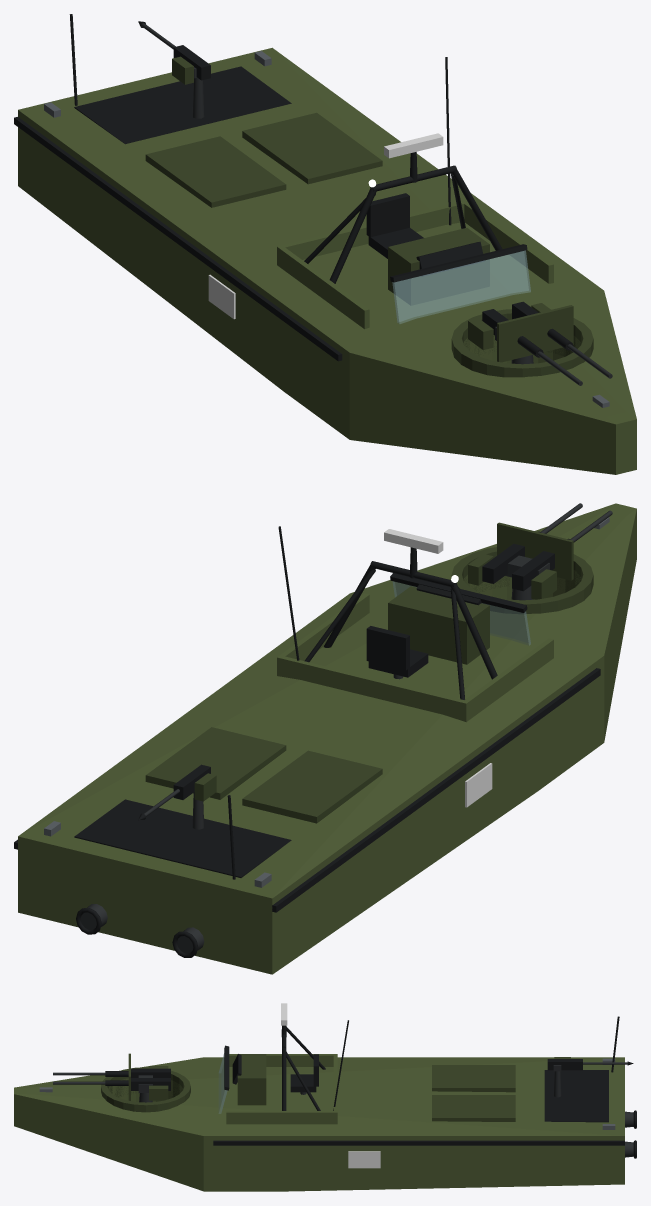
The model's file is pbr.glb.
3 views of the same model, one above another, from view 1: azimuth 30°, elevation 25°; view 2: azimuth 150°, elevation 25°; view 3: azimuth 270°, elevation 25° (orthographic). The views are drawn at different scales.
Parts seen in each view (by area): view 1: Mesh_Hull, Mesh_DeckPanelAft, Mesh_EngineHatchR, Mesh_EngineHatchL, Mesh_Windshield, Mesh_Console, Mesh_RubRailR, Mesh_TubCoaming, Mesh_GunShield, Mesh_CoamingAft, Mesh_CoamingR, Mesh_CoamingL (+9 smaller); view 2: Mesh_Hull, Mesh_DeckPanelAft, Mesh_EngineHatchR, Mesh_Console, Mesh_EngineHatchL, Mesh_CoamingAft, Mesh_RubRailR, Mesh_TubCoaming, Mesh_GunShield, Mesh_CoamingR, Mesh_SeatBack, Mesh_Windshield (+8 smaller); view 3: Mesh_Hull, Mesh_DeckPanelAft, Mesh_RubRailL, Mesh_EngineHatchR, Mesh_EngineHatchL, Mesh_TubCoaming, Mesh_CoamingL, Mesh_Console, Mesh_CoamingR, Mesh_HullMarkL, Mesh_SeatBase, Mesh_SternReceiver (+6 smaller).
Part boxes in pixels (bbox=[...]): Mesh_Hull: bbox=[18, 47, 636, 474]; Mesh_DeckPanelAft: bbox=[74, 66, 291, 144]; Mesh_EngineHatchR: bbox=[145, 136, 286, 207]; Mesh_EngineHatchL: bbox=[242, 112, 382, 184]; Mesh_Windshield: bbox=[392, 250, 530, 323]; Mesh_Console: bbox=[388, 228, 489, 305]; Mesh_RubRailR: bbox=[14, 117, 342, 361]; Mesh_TubCoaming: bbox=[451, 309, 593, 377]; Mesh_GunShield: bbox=[497, 305, 573, 362]; Mesh_CoamingAft: bbox=[277, 200, 468, 266]; Mesh_CoamingR: bbox=[280, 246, 369, 329]; Mesh_CoamingL: bbox=[464, 201, 553, 283]; Mesh_Hull: bbox=[18, 503, 636, 974]; Mesh_DeckPanelAft: bbox=[74, 799, 291, 877]; Mesh_EngineHatchR: bbox=[242, 750, 382, 823]; Mesh_Console: bbox=[388, 586, 489, 664]; Mesh_EngineHatchL: bbox=[145, 727, 286, 799]; Mesh_CoamingAft: bbox=[277, 655, 469, 722]; Mesh_RubRailR: bbox=[272, 668, 600, 912]; Mesh_TubCoaming: bbox=[451, 547, 593, 613]; Mesh_GunShield: bbox=[497, 522, 573, 580]; Mesh_CoamingR: bbox=[464, 638, 553, 719]; Mesh_SeatBack: bbox=[366, 626, 409, 670]; Mesh_Windshield: bbox=[392, 581, 530, 645]; Mesh_Hull: bbox=[14, 1057, 624, 1191]; Mesh_DeckPanelAft: bbox=[544, 1070, 608, 1122]; Mesh_RubRailL: bbox=[213, 1140, 624, 1145]; Mesh_EngineHatchR: bbox=[432, 1065, 515, 1092]; Mesh_EngineHatchL: bbox=[432, 1095, 515, 1121]; Mesh_TubCoaming: bbox=[101, 1067, 190, 1112]; Mesh_CoamingL: bbox=[226, 1111, 335, 1124]; Mesh_Console: bbox=[237, 1054, 266, 1105]; Mesh_CoamingR: bbox=[229, 1054, 335, 1066]; Mesh_HullMarkL: bbox=[348, 1151, 380, 1168]; Mesh_SeatBase: bbox=[290, 1074, 316, 1092]; Mesh_SternReceiver: bbox=[547, 1059, 582, 1070].
Bounding box in the file's own units: 2.99 × 2.7 × 9.69.
